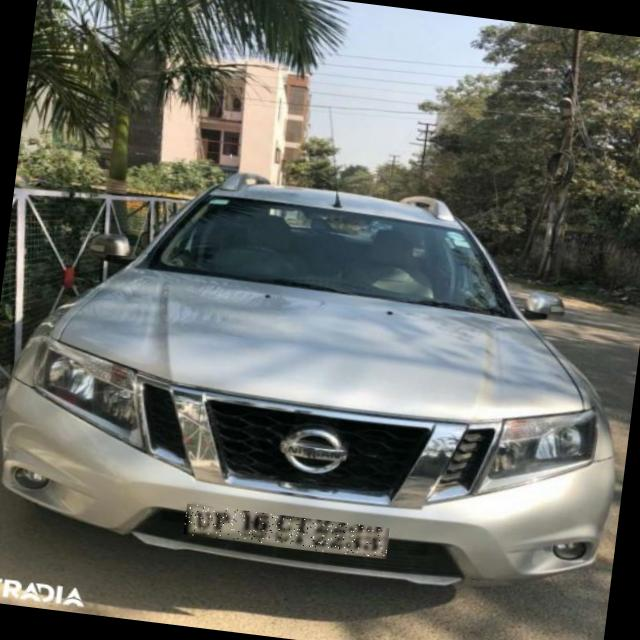Plate: (184, 504, 390, 560)
